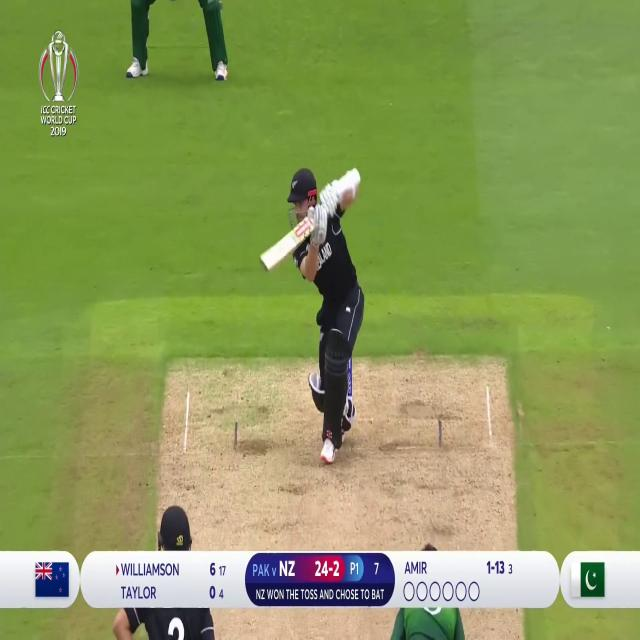bat: (261, 213, 312, 279)
toe: (259, 255, 269, 273)
